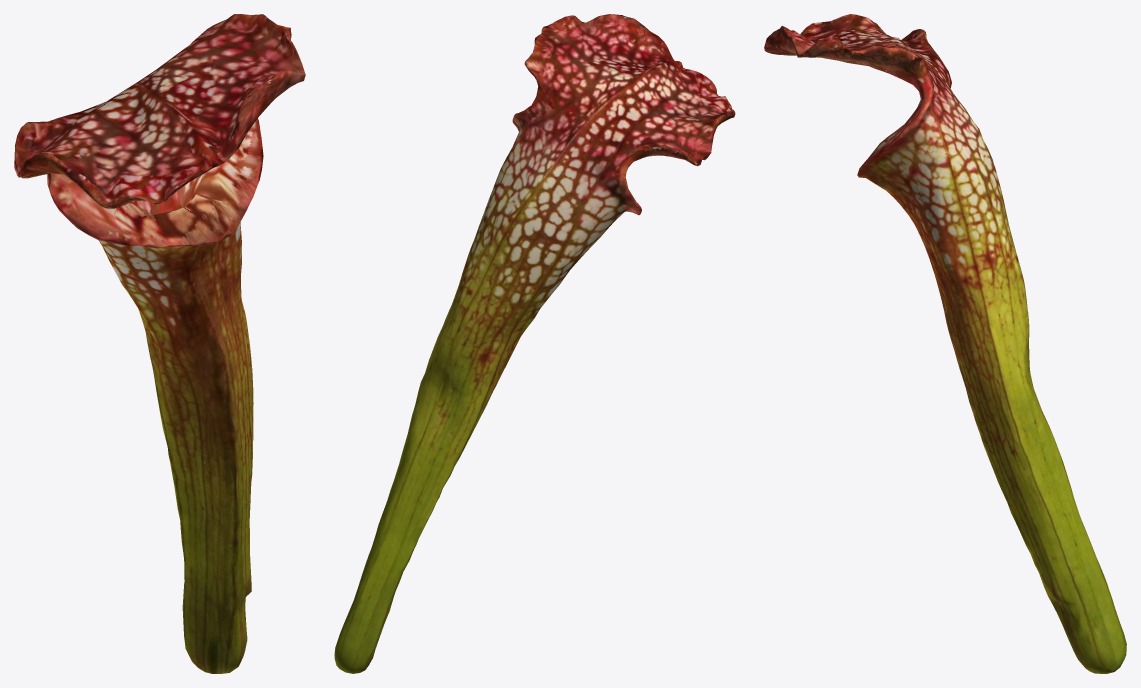
The model's file is pitcher.fbx.
3 views of the same model, side by side, from view 1: azimuth 30°, elevation 25°; view 2: azimuth 150°, elevation 25°; view 3: azimuth 270°, elevation 25° (orthographic). The views are drawn at different scales.
Visible parts, largest first — view 1: pitcher; view 2: pitcher; view 3: pitcher.
Part boxes in pixels (bbox=[...]): pitcher: bbox=[14, 14, 305, 673]; pitcher: bbox=[334, 14, 735, 673]; pitcher: bbox=[764, 14, 1126, 673].
Size of the model in its own units: 4.94 by 10.28 by 5.68.
1 material, 1 textured.
